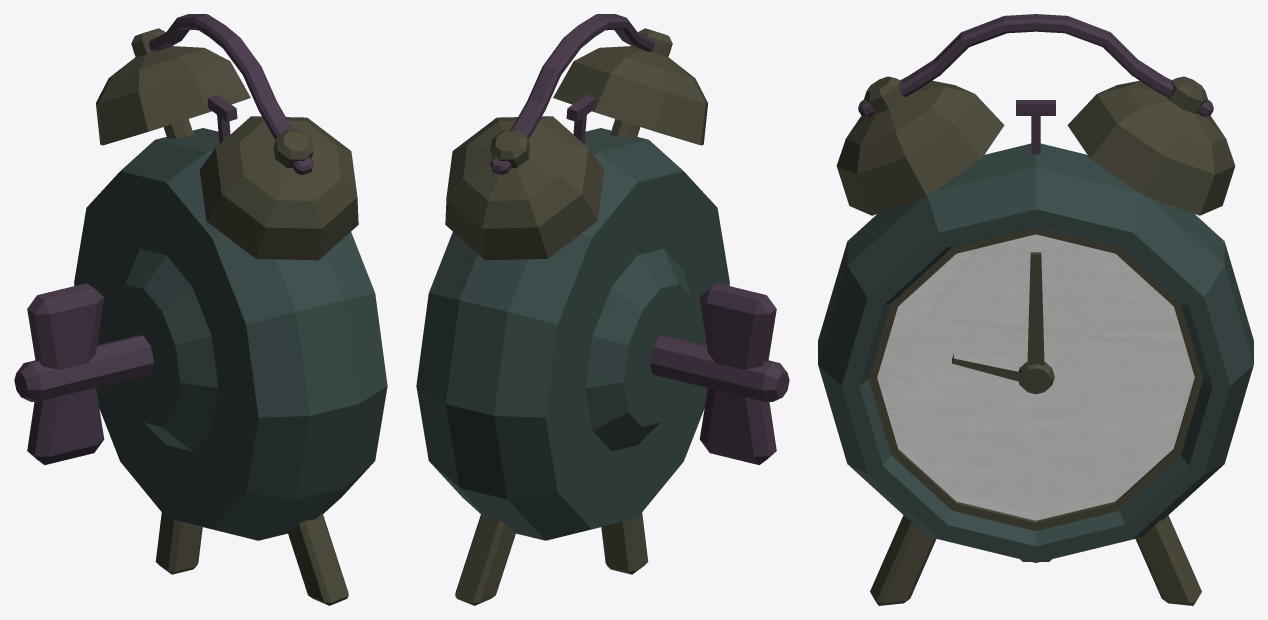
The model's file is clock.glb.
The picture shows the model from 3 angles, left to right: view 1: azimuth 30°, elevation 25°; view 2: azimuth 150°, elevation 25°; view 3: azimuth 270°, elevation 25°; orthographic projection. The views are drawn at different scales.
Visible parts, largest first — view 1: Object_3, Object_2, Object_4, Object_7, Object_6; view 2: Object_3, Object_2, Object_4, Object_7, Object_6; view 3: Object_5, Object_3, Object_2, Object_7, Object_6.
Part boxes in pixels (x1=…): Object_3: x1=74, y1=128, x2=387, y2=540; Object_2: x1=96, y1=28, x2=358, y2=260; Object_4: x1=14, y1=283, x2=153, y2=465; Object_7: x1=155, y1=512, x2=348, y2=605; Object_6: x1=133, y1=14, x2=313, y2=174; Object_3: x1=416, y1=128, x2=729, y2=540; Object_2: x1=445, y1=28, x2=707, y2=260; Object_4: x1=650, y1=283, x2=789, y2=465; Object_7: x1=455, y1=512, x2=648, y2=605; Object_6: x1=490, y1=14, x2=670, y2=174; Object_5: x1=877, y1=234, x2=1194, y2=520; Object_3: x1=818, y1=143, x2=1253, y2=562; Object_2: x1=836, y1=76, x2=1235, y2=215; Object_7: x1=869, y1=227, x2=1202, y2=605; Object_6: x1=858, y1=14, x2=1213, y2=154.
Bounding box in the file's own units: 0.2009 × 0.3666 × 0.2578.
4 materials, 1 textured.
